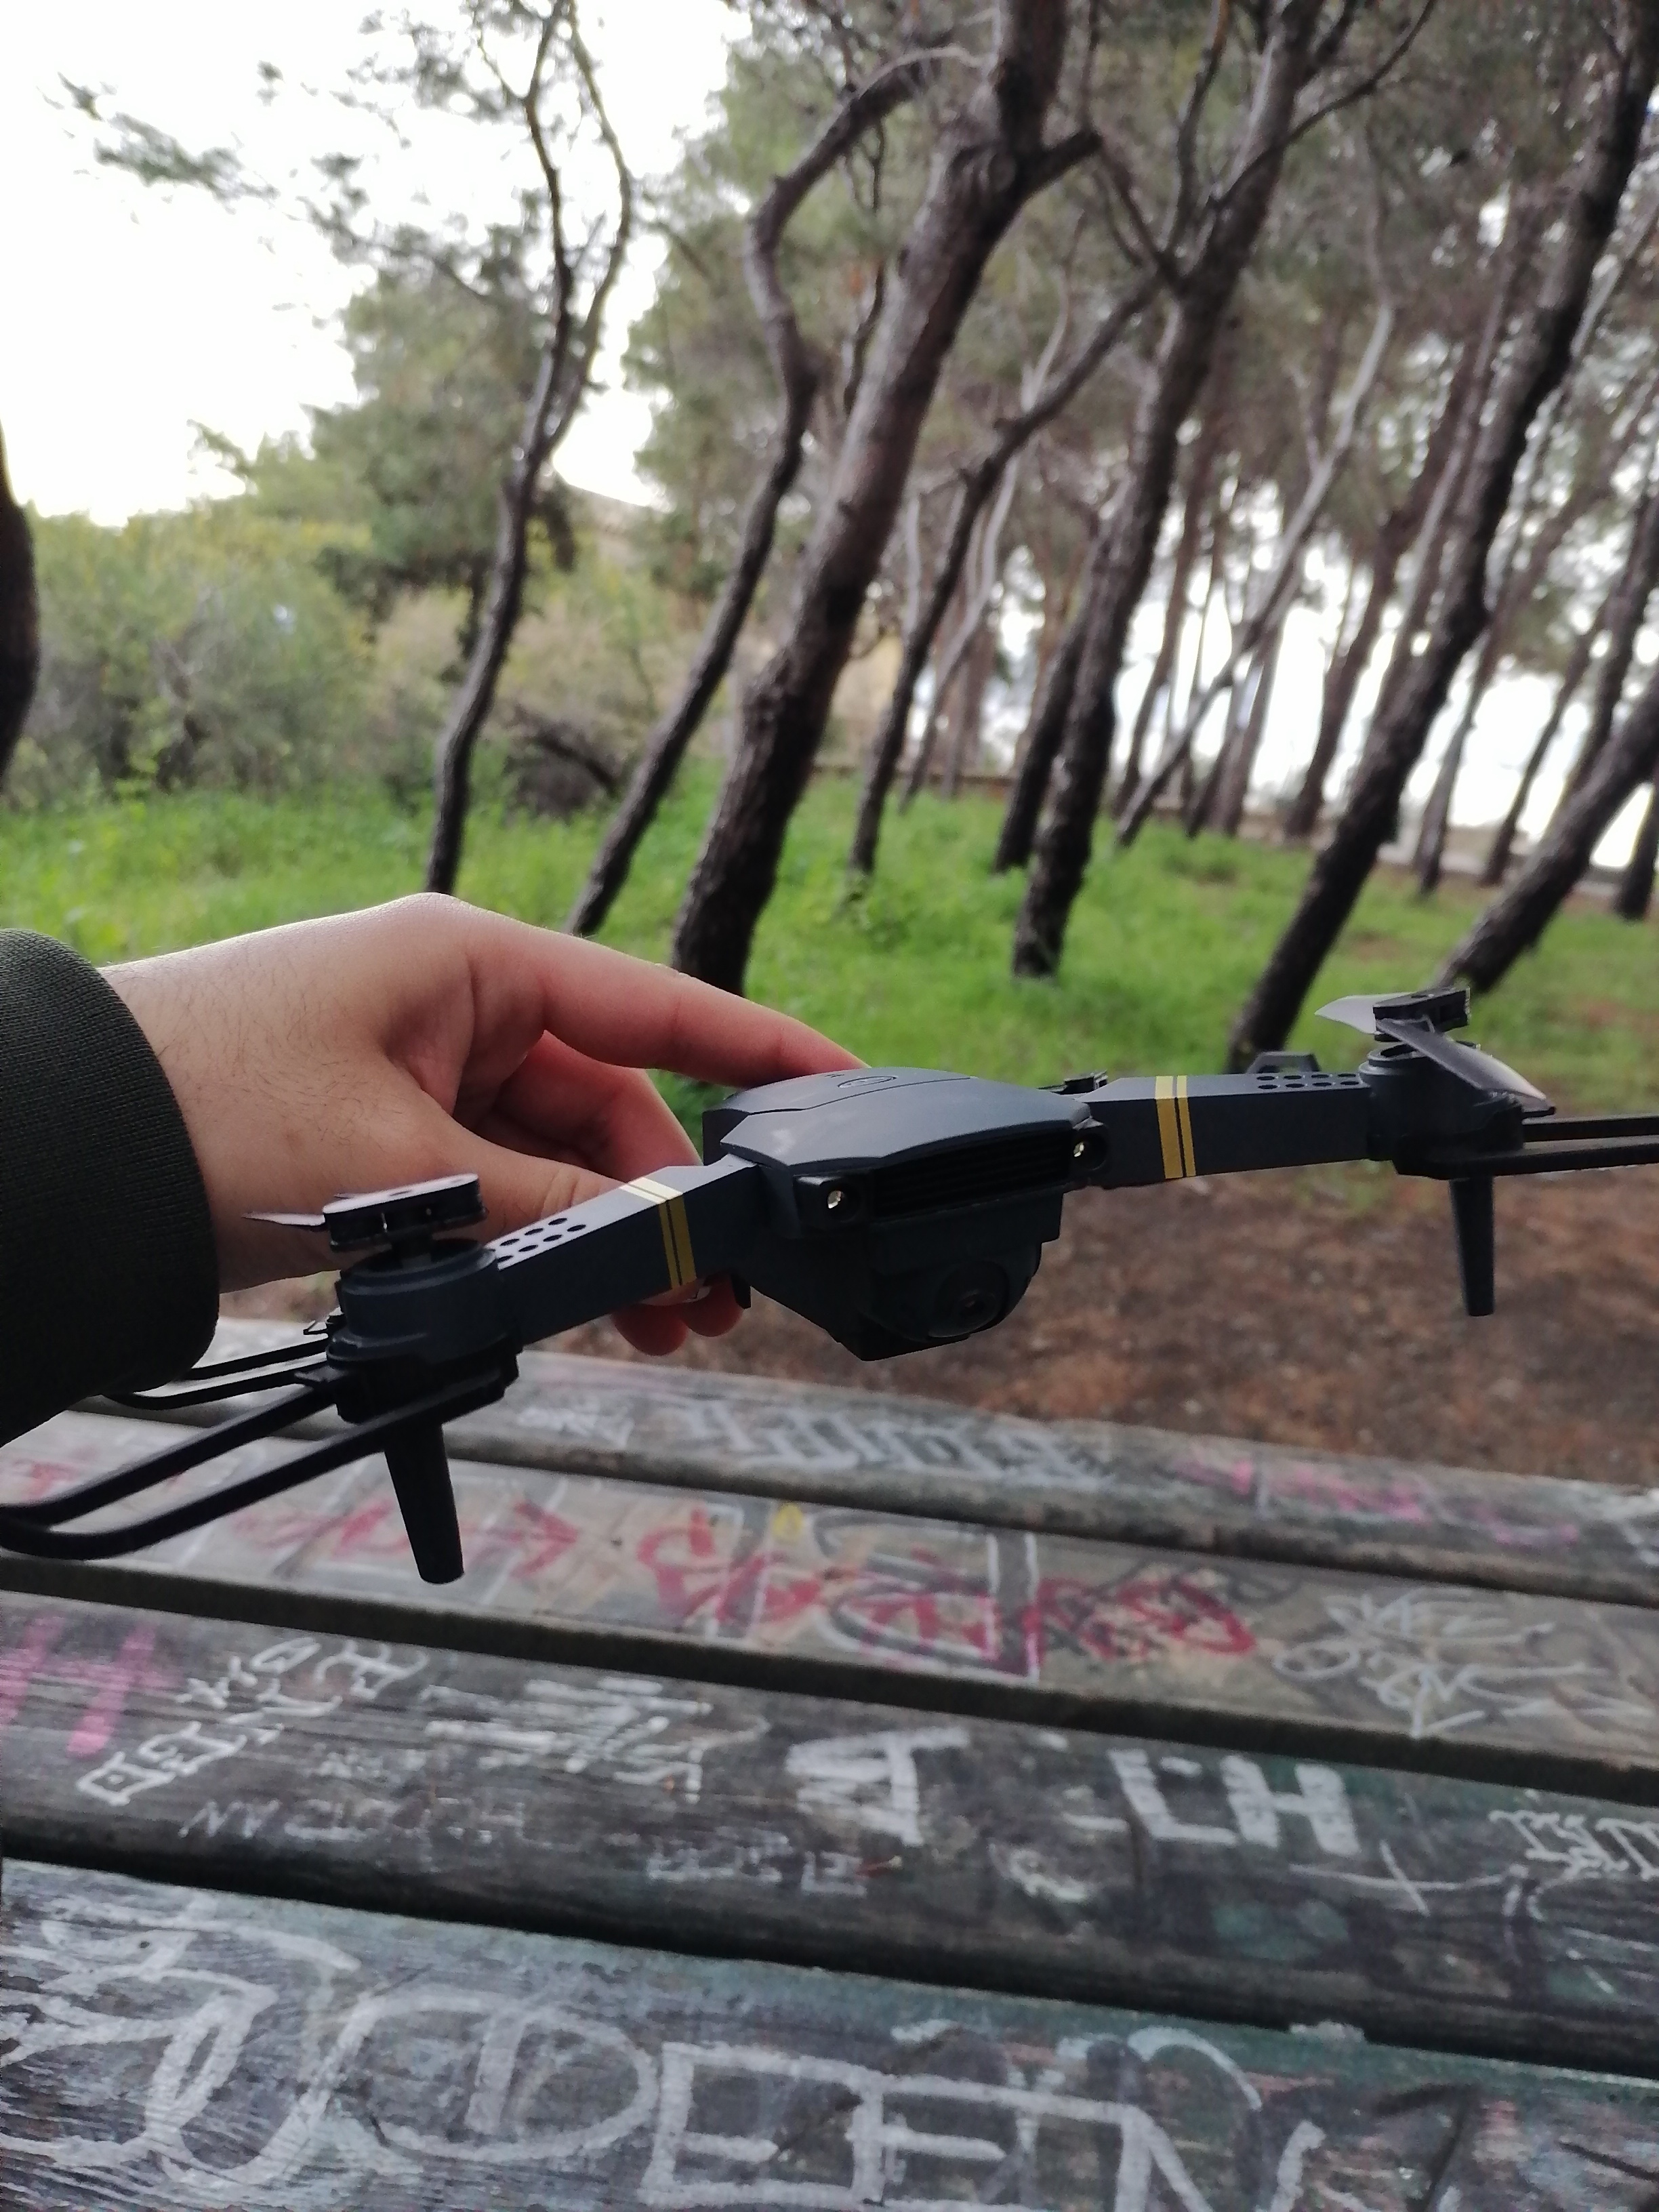drone: (42, 909, 1654, 1637)
